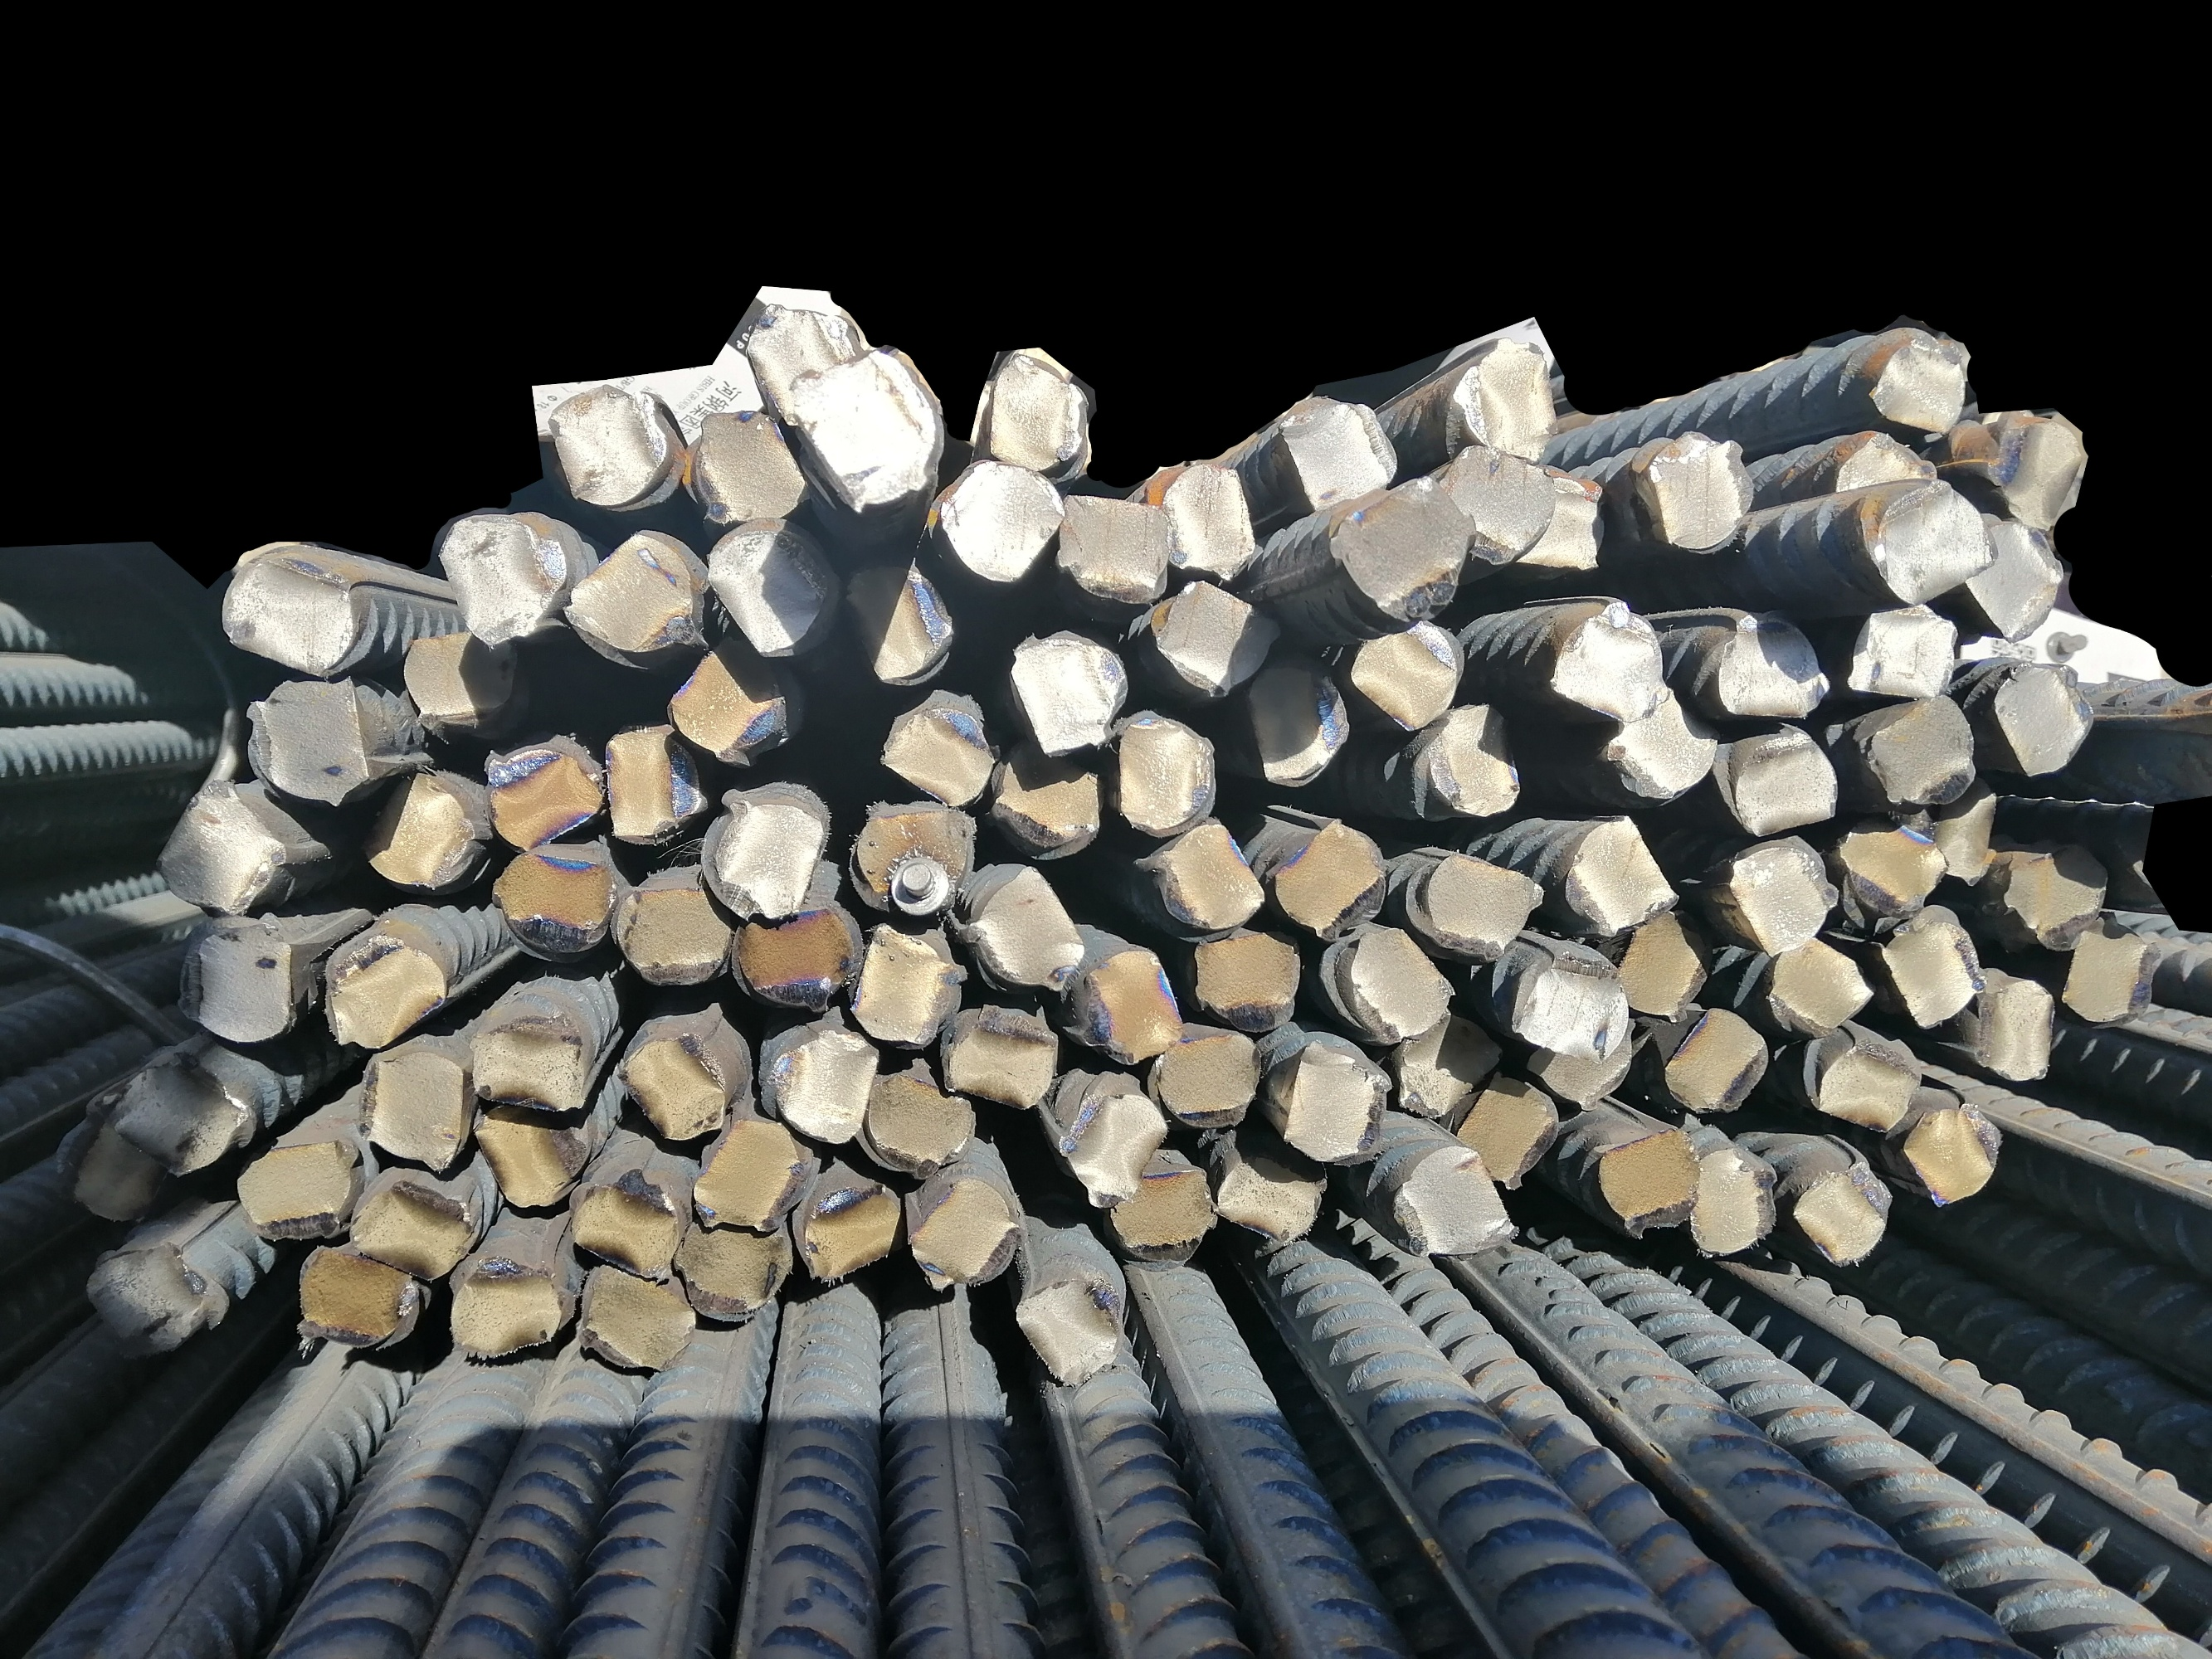rebar: (786, 345, 943, 507), (80, 1237, 235, 1368), (227, 540, 370, 674), (1339, 477, 1468, 620), (933, 451, 1067, 587), (695, 791, 830, 925), (847, 795, 983, 927), (708, 519, 828, 662), (563, 530, 694, 657), (441, 514, 570, 641), (1435, 437, 1560, 568), (244, 678, 373, 803), (837, 563, 960, 694), (155, 786, 275, 920), (108, 1058, 242, 1176), (321, 934, 457, 1051), (174, 920, 295, 1051), (1863, 488, 1998, 605), (357, 763, 478, 889), (1110, 709, 1229, 836), (492, 840, 622, 955), (1389, 1143, 1520, 1258), (1278, 392, 1400, 514), (664, 634, 788, 755), (971, 866, 1084, 997), (570, 1260, 702, 1371), (1269, 1042, 1389, 1164), (744, 301, 861, 427), (1274, 816, 1389, 943), (56, 1103, 171, 1229), (851, 922, 964, 1049), (1006, 636, 1126, 755), (1555, 598, 1670, 721), (608, 873, 734, 986), (1963, 507, 2067, 643), (349, 1176, 476, 1288), (730, 901, 859, 1011), (1056, 490, 1175, 608), (547, 394, 668, 511), (1157, 582, 1281, 695), (992, 735, 1103, 861), (1644, 432, 1759, 552), (467, 1101, 591, 1213), (1452, 345, 1567, 464), (356, 1047, 467, 1169), (1349, 619, 1471, 730), (230, 1140, 364, 1241), (1079, 939, 1185, 1066), (1150, 819, 1267, 934), (1147, 464, 1262, 580), (694, 410, 811, 525), (596, 727, 711, 842), (485, 739, 603, 850), (1607, 680, 1717, 800), (1712, 606, 1825, 721), (1727, 723, 1839, 840), (619, 1030, 729, 1148), (444, 1258, 570, 1361), (302, 1243, 418, 1352), (770, 1032, 880, 1148), (1867, 690, 1977, 807), (676, 1220, 795, 1328), (1142, 1023, 1260, 1131), (1245, 666, 1351, 786), (1454, 1073, 1560, 1194), (1727, 847, 1842, 957), (1991, 662, 2099, 779), (1344, 925, 1455, 1037), (1564, 824, 1677, 934), (1410, 709, 1523, 819), (690, 1119, 798, 1234), (985, 354, 1088, 474), (1422, 850, 1546, 950), (1614, 904, 1712, 1030), (1018, 1276, 1126, 1389), (1590, 1124, 1701, 1232), (1063, 1086, 1164, 1204), (913, 1180, 1020, 1291), (1876, 920, 1982, 1032), (1659, 1007, 1771, 1114), (567, 1175, 680, 1279), (1391, 1014, 1504, 1119), (1513, 960, 1632, 1060), (476, 1014, 587, 1119), (1185, 929, 1299, 1032), (1849, 603, 1963, 706), (401, 627, 519, 725), (2006, 843, 2114, 950), (882, 699, 987, 807), (943, 1009, 1058, 1107), (866, 1068, 976, 1169), (1513, 458, 1607, 575), (1905, 1100, 2005, 1209), (1112, 1162, 1213, 1269), (1809, 1039, 1921, 1134), (1794, 1161, 1891, 1269), (1217, 1152, 1330, 1244), (1771, 939, 1877, 1037), (1987, 418, 2083, 526), (1689, 1141, 1780, 1255), (807, 1182, 903, 1284), (1839, 826, 1949, 915), (1869, 333, 1964, 434), (2066, 927, 2160, 1026), (1924, 775, 2005, 889), (1830, 429, 1945, 505), (1975, 976, 2059, 1080), (1527, 1030, 1632, 1107)
